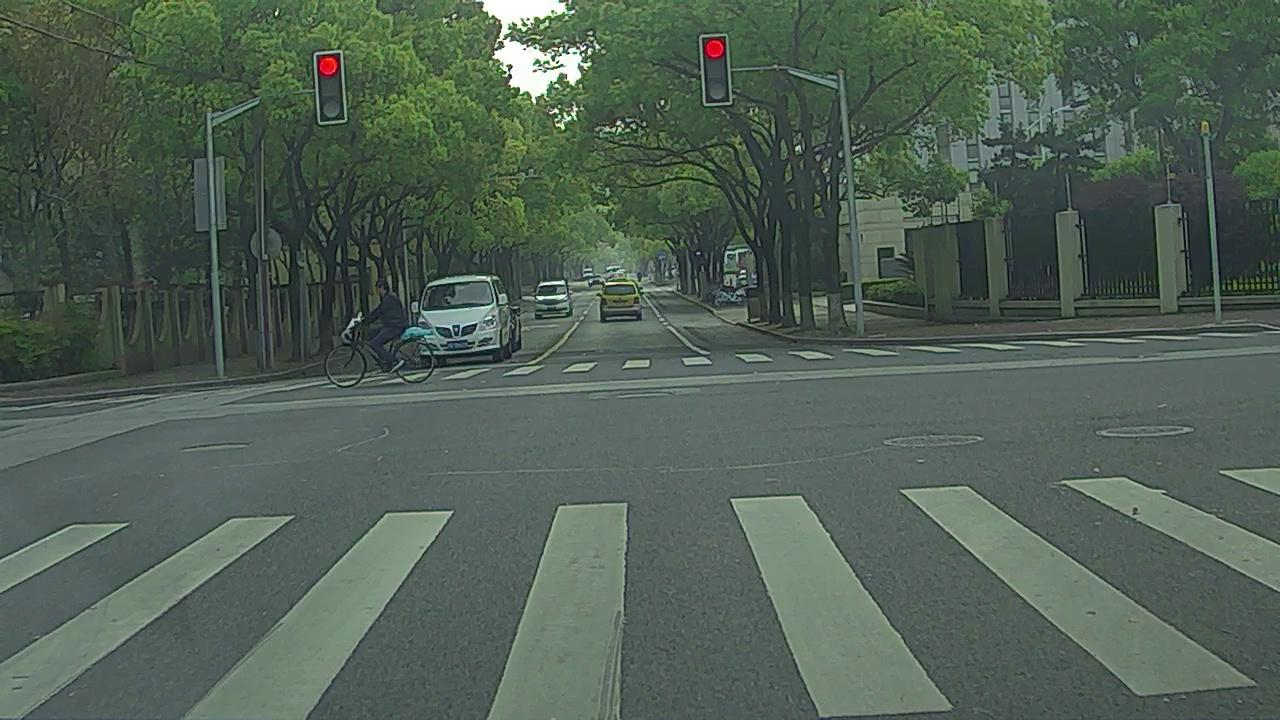traffic_light: (315, 54, 346, 123), (701, 38, 729, 103)
